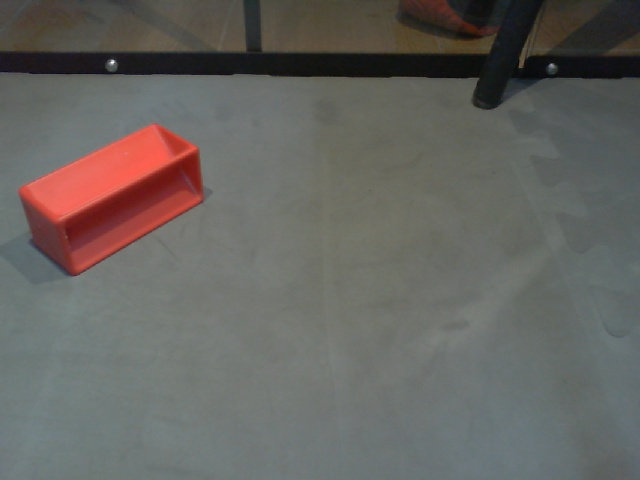RedSample: (15, 120, 208, 278)
